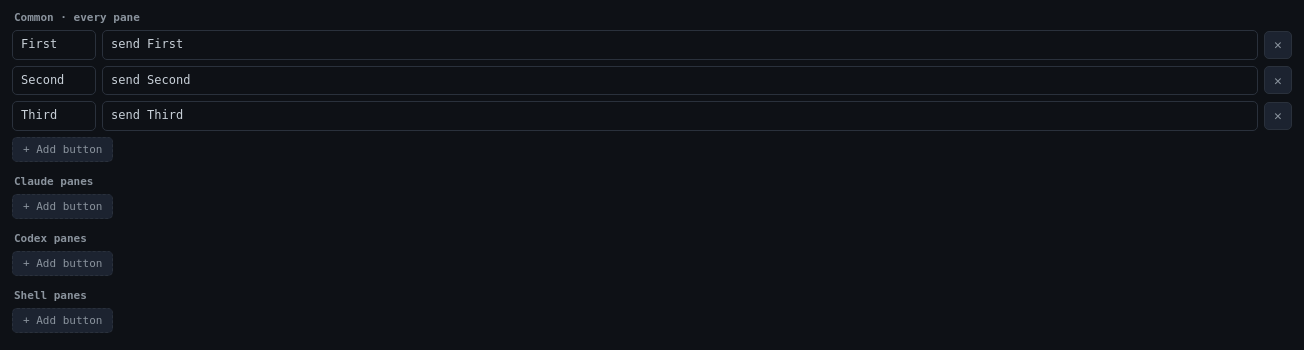
QuickEditor › keeps focus in the sensible row after deleting the middle row
The width and height of the screenshot is (1304, 350).
What coordinates should you click on to do the following:
click the 2nd button "✕"
I would click on:
 (1278, 80)
Its box is x1=1264 y1=66 x2=1292 y2=94.
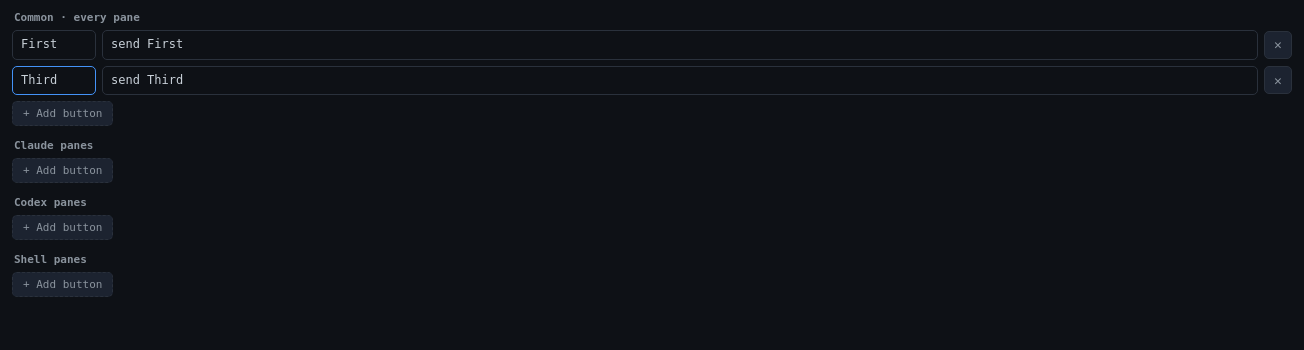
Check: the field named "Common · every pane button 2 label" holds "Third", box x1=12 y1=66 x2=96 y2=95
